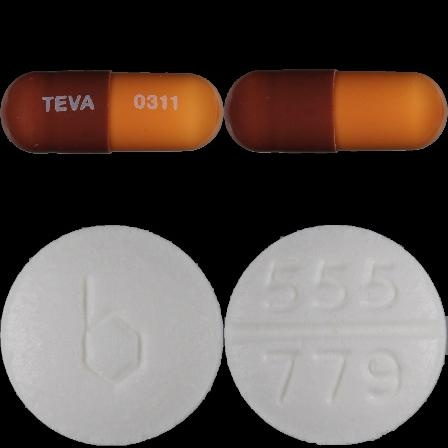66267-132: (0, 0, 224, 224)
